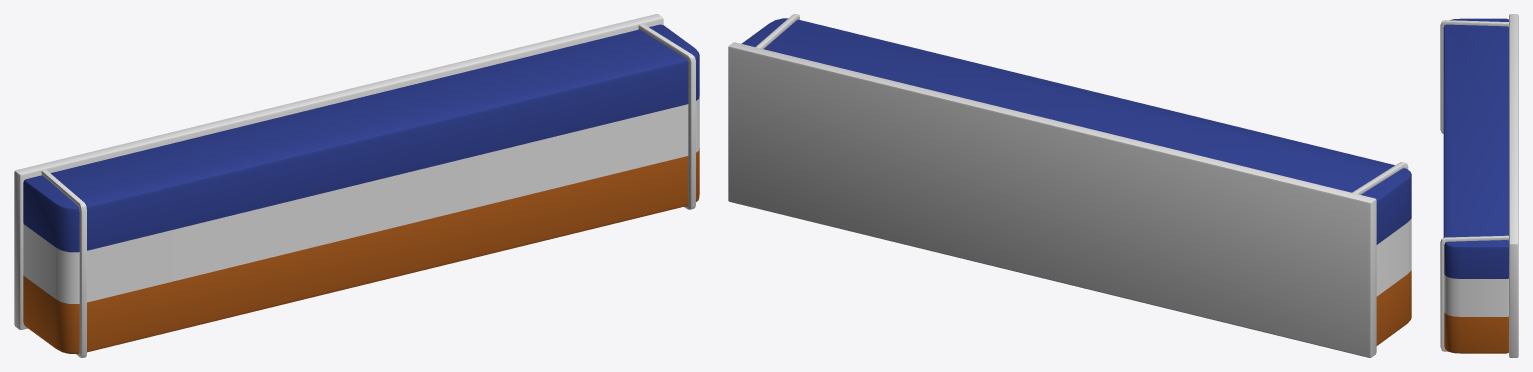
File: SM_led_board_03.fbx
3 views of the same model, side by side, from view 1: azimuth 30°, elevation 25°; view 2: azimuth 150°, elevation 25°; view 3: azimuth 270°, elevation 25° (orthographic). The views are drawn at different scales.
Parts seen in each view (by area): view 1: Object32361; view 2: Object32361; view 3: Object32361.
Boxes of the visible parts, x1,y1,x2,y2 form: Object32361: (14,14,699,357); Object32361: (728,14,1411,357); Object32361: (1440,14,1518,357).
Bounding box in the file's own units: 359 × 83.33 × 51.42.
